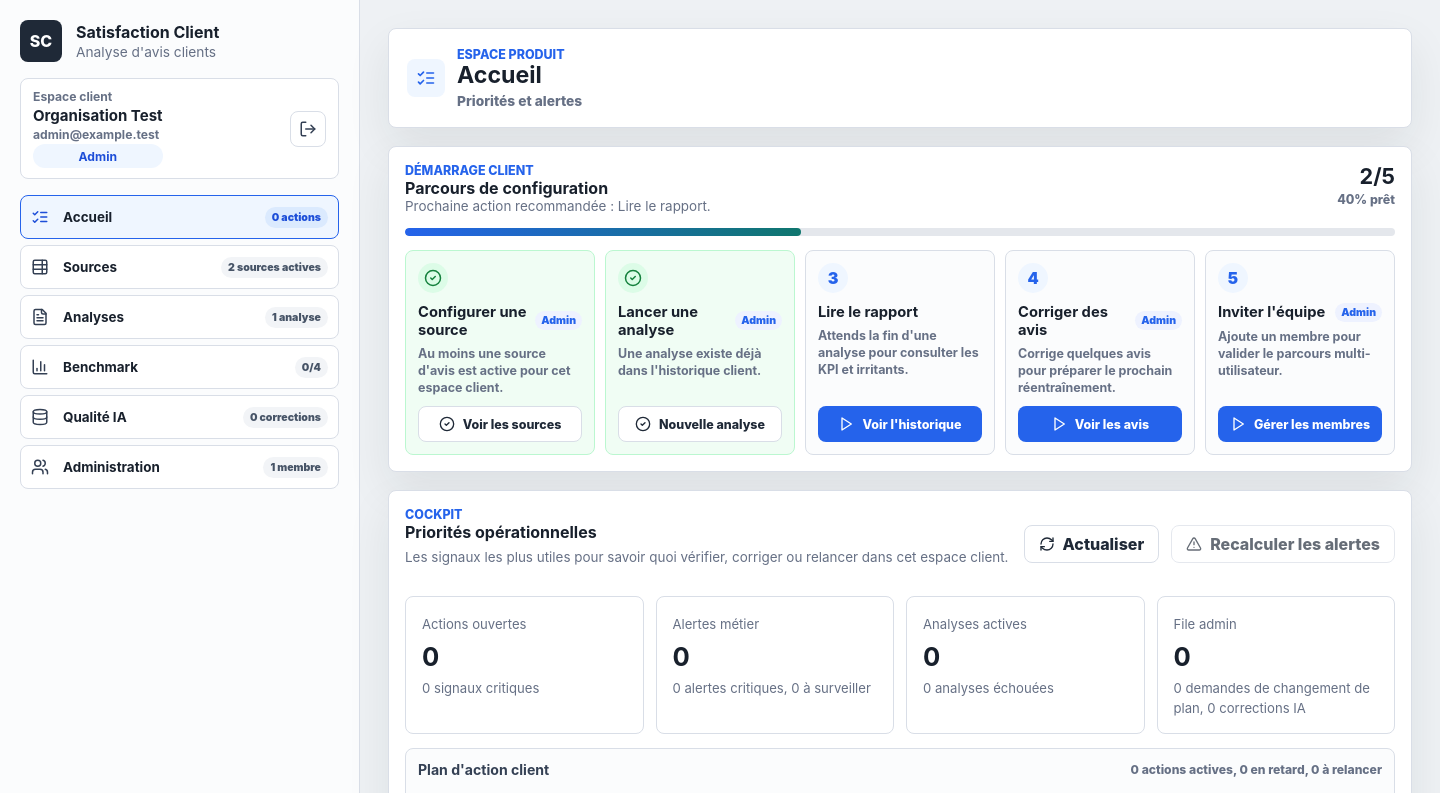
Test: App authentication and permissions › shows a non-misleading empty journal state
Expected: the text "admin@example.test" is shown, [33, 127, 163, 142]
Click the button "Analyses 1 analyse" at (94, 317), box [20, 295, 339, 339]
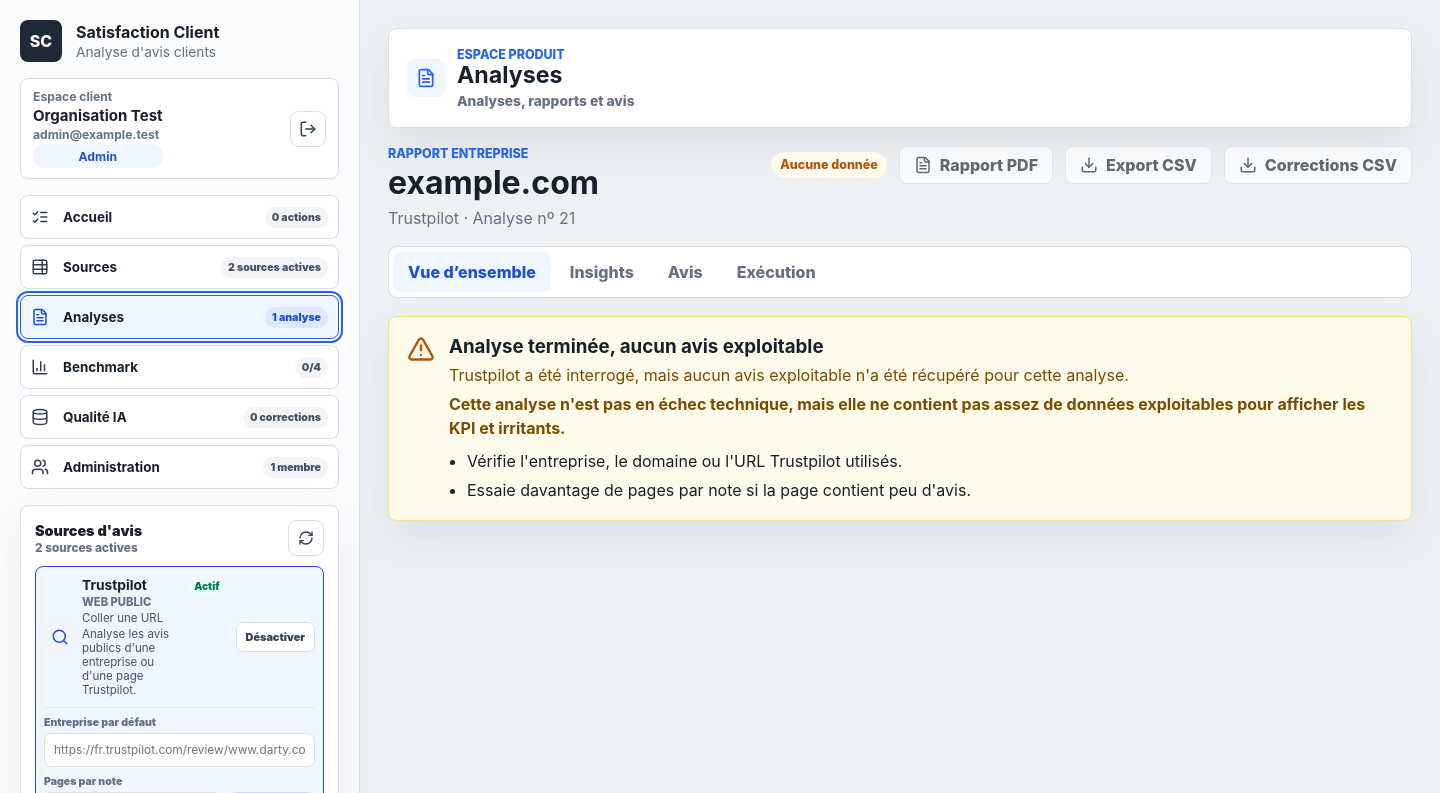
Now the heading "Analyse terminée, aucun avis exploitable" is shown, box [449, 335, 824, 358]
Click the tab "Exécution" at (776, 272), box [723, 252, 830, 292]
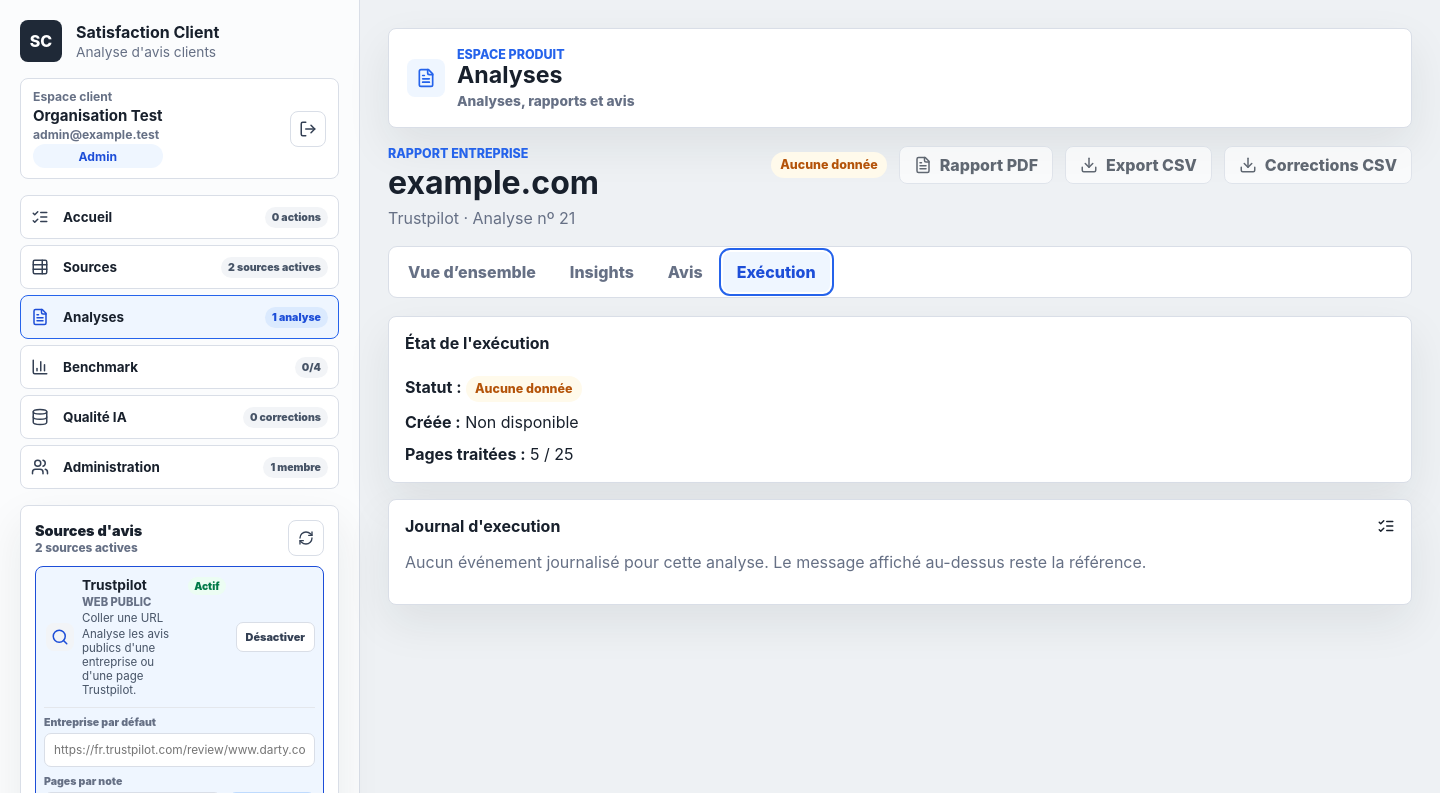
Now the text "Aucun événement journalisé pour cette analyse. Le message affiché au-dessus reste la référence." is shown, box [405, 552, 1146, 572]
